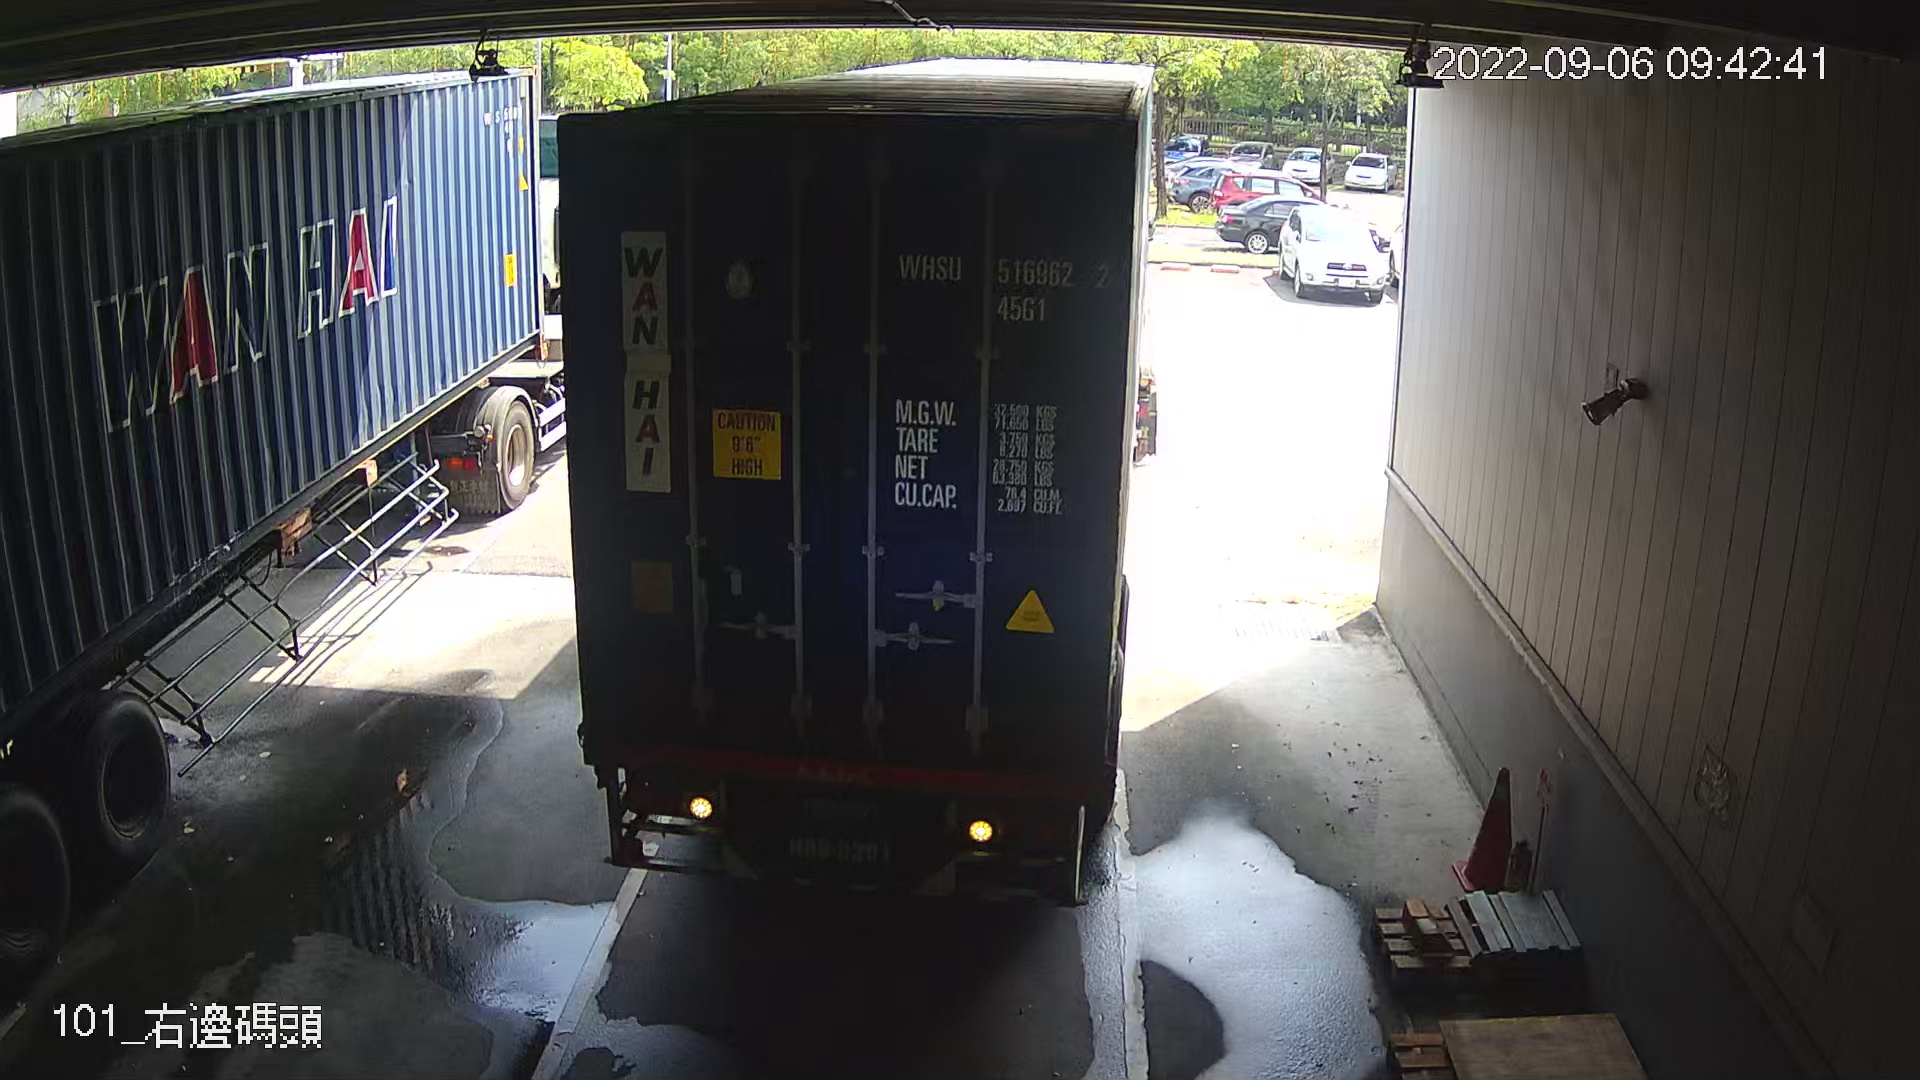container: (887, 237, 1120, 334)
